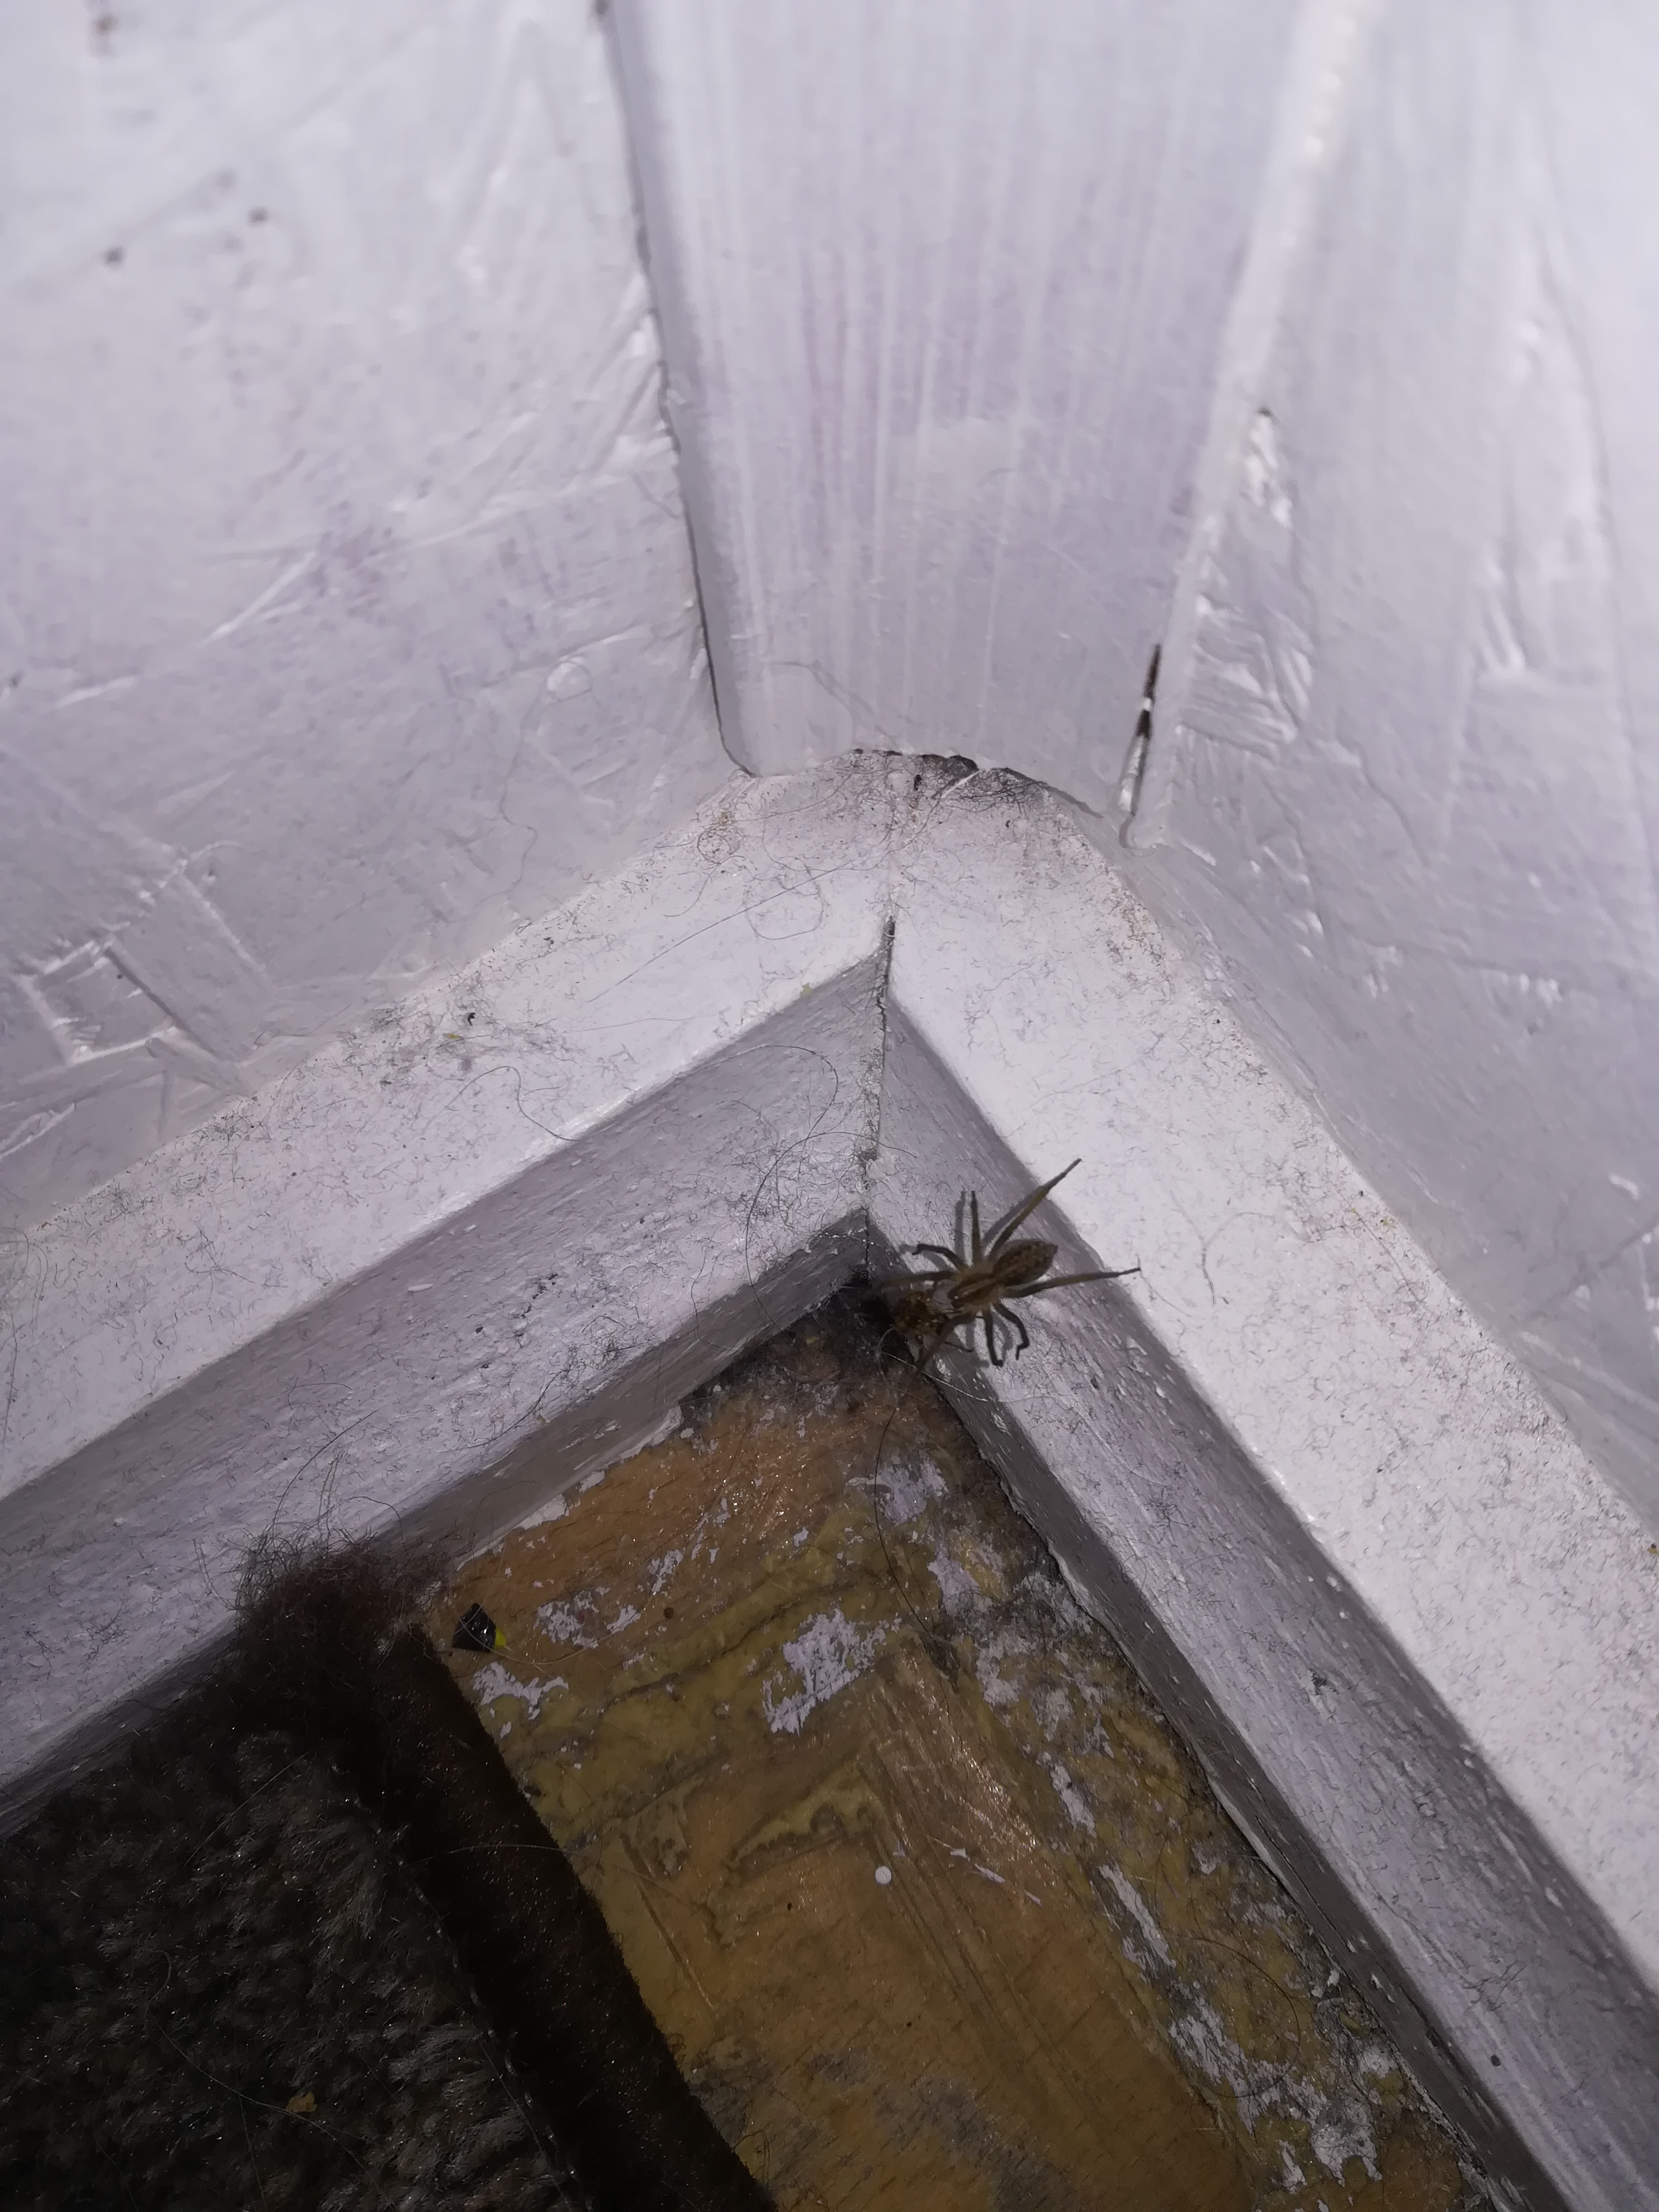spider: (866, 1129, 1175, 1421)
